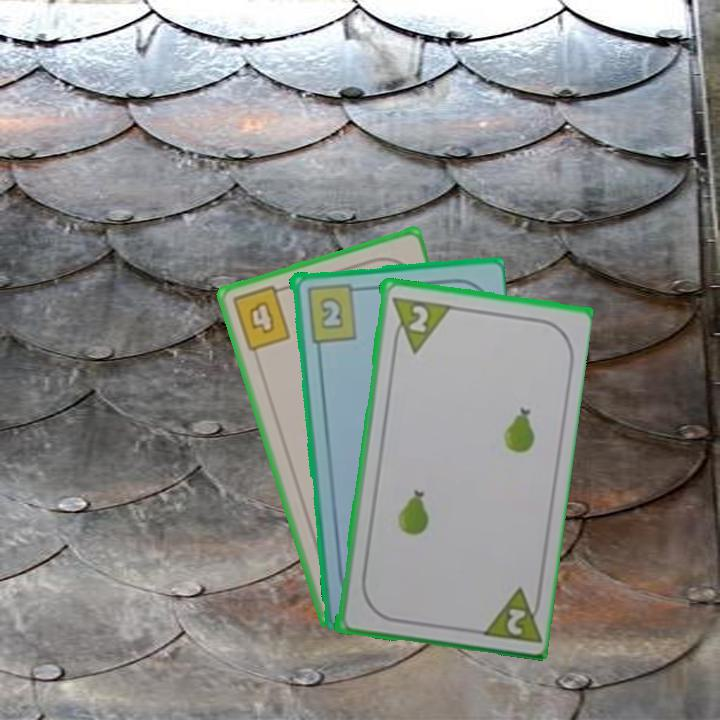2b: (303, 279, 364, 345)
2p: (475, 582, 545, 646), (387, 292, 451, 355)
4b: (228, 282, 294, 354)
